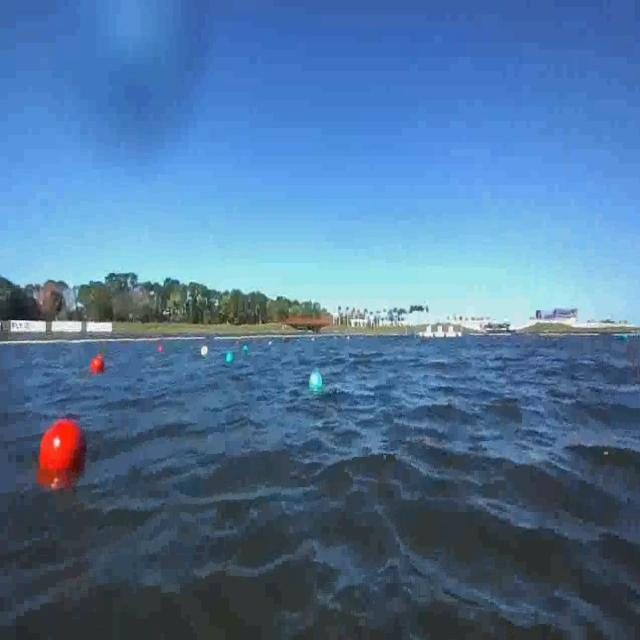green-buoy: (307, 368, 326, 393)
red-buoy: (37, 416, 92, 484)
